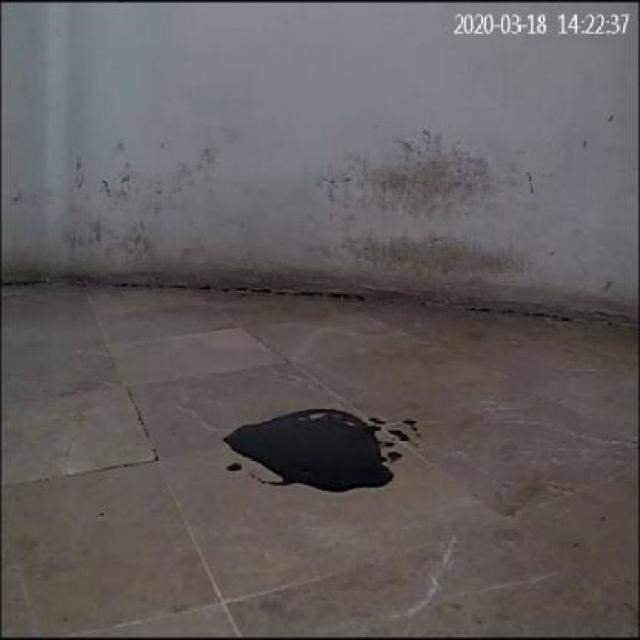spill: (223, 404, 397, 490)
